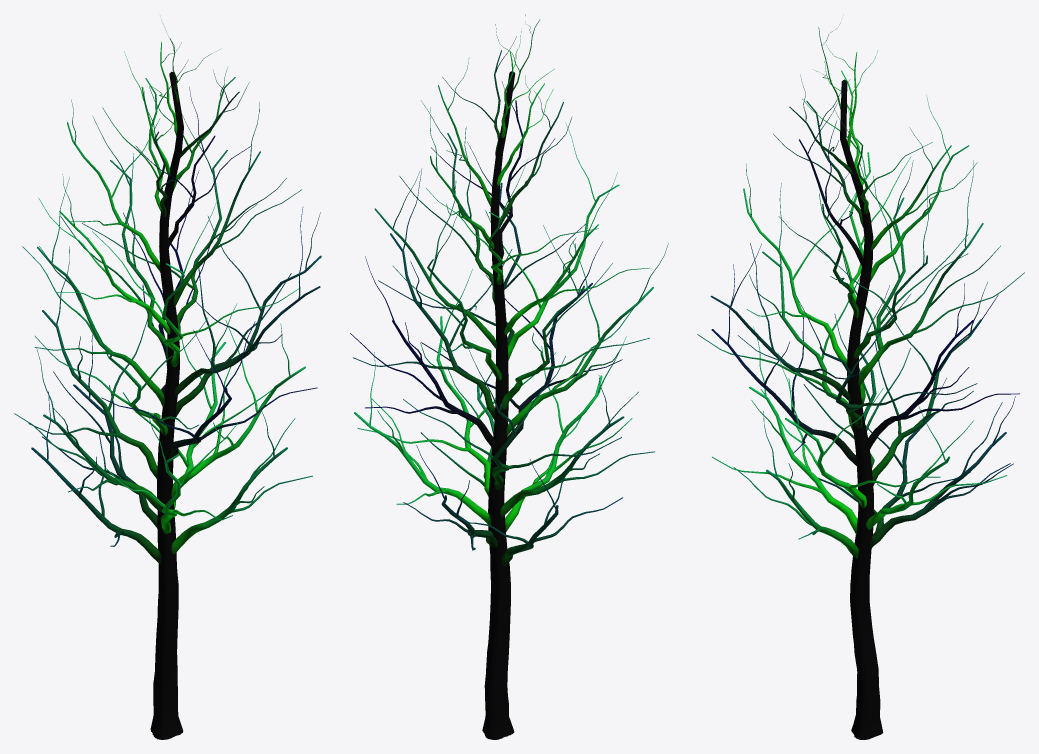
File: SM_FLTree_014.FBX
3 views of the same model, side by side, from view 1: azimuth 30°, elevation 25°; view 2: azimuth 150°, elevation 25°; view 3: azimuth 270°, elevation 25° (orthographic). The views are drawn at different scales.
Visible parts, largest first — view 1: SM_FLTree_014_LOD0; view 2: SM_FLTree_014_LOD0; view 3: SM_FLTree_014_LOD0.
Boxes of the visible parts, x1,y1,x2,y2 form: SM_FLTree_014_LOD0: [14, 20, 321, 739]; SM_FLTree_014_LOD0: [350, 14, 668, 739]; SM_FLTree_014_LOD0: [697, 23, 1024, 739].
Size of what is drawn, in the model's own units: 494 by 522 by 1248.
